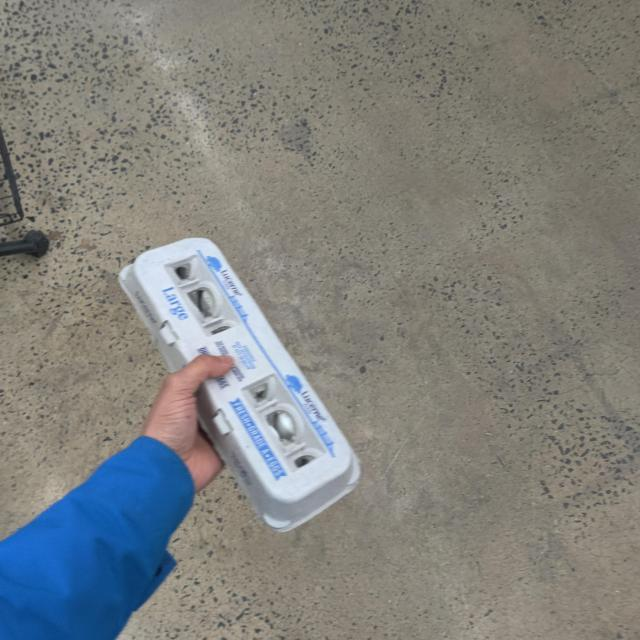Eggs: (120, 203, 370, 539)
